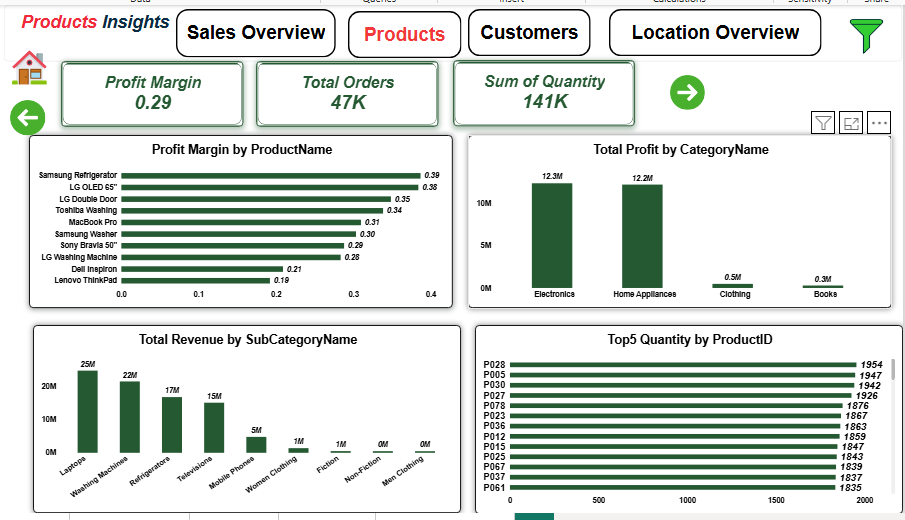

The page's visual inventory and layout, read from the dashboard file:
{"tool":"powerbi","page":{"name":"Products","canvas":[1920,1080],"ordinal":2},"visuals":[{"type":"shape","box":[10.9,0,1909.1,120],"z":0},{"type":"textbox","box":[31.3,15.6,343.8,104.9],"z":1000},{"type":"actionButton","box":[375.4,9.6,339.5,102.8],"z":2000},{"type":"actionButton","box":[741.2,12,241.5,100.4],"z":3000},{"type":"actionButton","box":[1295.9,9.6,451.9,100.4],"z":4000},{"type":"image","box":[12,81.3,104.2,104.2],"z":5000},{"type":"barChart","title":"Top5 Quantity by ProductID","fields":{"Category":["Dim_Product.ProductID"],"Y":["Sum(Fact_Sales.Quantity)"]},"box":[1012,680.3,909.9,401.8],"z":6000},{"type":"columnChart","fields":{"Category":["Dim_Category.CategoryName"],"Y":["Fact_Sales.Total Profit"]},"box":[997.1,277.4,901.4,368.2],"z":7000},{"type":"barChart","fields":{"Category":["Dim_Product.ProductName"],"Y":["Fact_Sales.Profit Margin"]},"box":[64.6,277.4,901.4,368.2],"z":8000},{"type":"image","box":[1792.2,14.9,104.2,104.2],"z":9000},{"type":"cardVisual","fields":{"Data":["Sum(Fact_Sales.Quantity)"]},"box":[966,117.2,387.3,141.1],"z":18000},{"type":"cardVisual","fields":{"Data":["Fact_Sales.Total Orders"]},"box":[546.4,119.1,388.4,139.6],"z":19000},{"type":"cardVisual","fields":{"Data":["Fact_Sales.Profit Margin"]},"box":[131.8,119.1,388.4,139.6],"z":20000},{"type":"image","box":[1411.7,133.9,104.2,104.2],"z":21000},{"type":"image","box":[9.6,186.5,105.2,105.2],"z":22000},{"type":"actionButton","box":[997.1,9.6,260.6,100.4],"z":31000},{"type":"columnChart","fields":{"Category":["Dim_SubCategory.SubCategoryName"],"Y":["Fact_Sales.Total Revenue"]},"box":[72.3,680.3,909.9,399.7],"z":32000}]}

Visuals, with their boxes on the page's 1920x1080 design canvas (x1, y1, x2, y2). These are canvas units, not pixel positions in the 905x520 screenshot, which may show the page scaled, cropped or inside an application window:
shape: {"left": 11, "top": 0, "right": 1920, "bottom": 120}
textbox: {"left": 31, "top": 16, "right": 375, "bottom": 120}
actionButton: {"left": 375, "top": 10, "right": 715, "bottom": 112}
actionButton: {"left": 741, "top": 12, "right": 983, "bottom": 112}
actionButton: {"left": 1296, "top": 10, "right": 1748, "bottom": 110}
image: {"left": 12, "top": 81, "right": 116, "bottom": 186}
"Top5 Quantity by ProductID" barChart: {"left": 1012, "top": 680, "right": 1922, "bottom": 1082}
columnChart - Dim_Category.CategoryName x Fact_Sales.Total Profit: {"left": 997, "top": 277, "right": 1898, "bottom": 646}
barChart - Dim_Product.ProductName x Fact_Sales.Profit Margin: {"left": 65, "top": 277, "right": 966, "bottom": 646}
image: {"left": 1792, "top": 15, "right": 1896, "bottom": 119}
cardVisual - Sum(Fact_Sales.Quantity): {"left": 966, "top": 117, "right": 1353, "bottom": 258}
cardVisual - Fact_Sales.Total Orders: {"left": 546, "top": 119, "right": 935, "bottom": 259}
cardVisual - Fact_Sales.Profit Margin: {"left": 132, "top": 119, "right": 520, "bottom": 259}
image: {"left": 1412, "top": 134, "right": 1516, "bottom": 238}
image: {"left": 10, "top": 186, "right": 115, "bottom": 292}
actionButton: {"left": 997, "top": 10, "right": 1258, "bottom": 110}
columnChart - Dim_SubCategory.SubCategoryName x Fact_Sales.Total Revenue: {"left": 72, "top": 680, "right": 982, "bottom": 1080}
